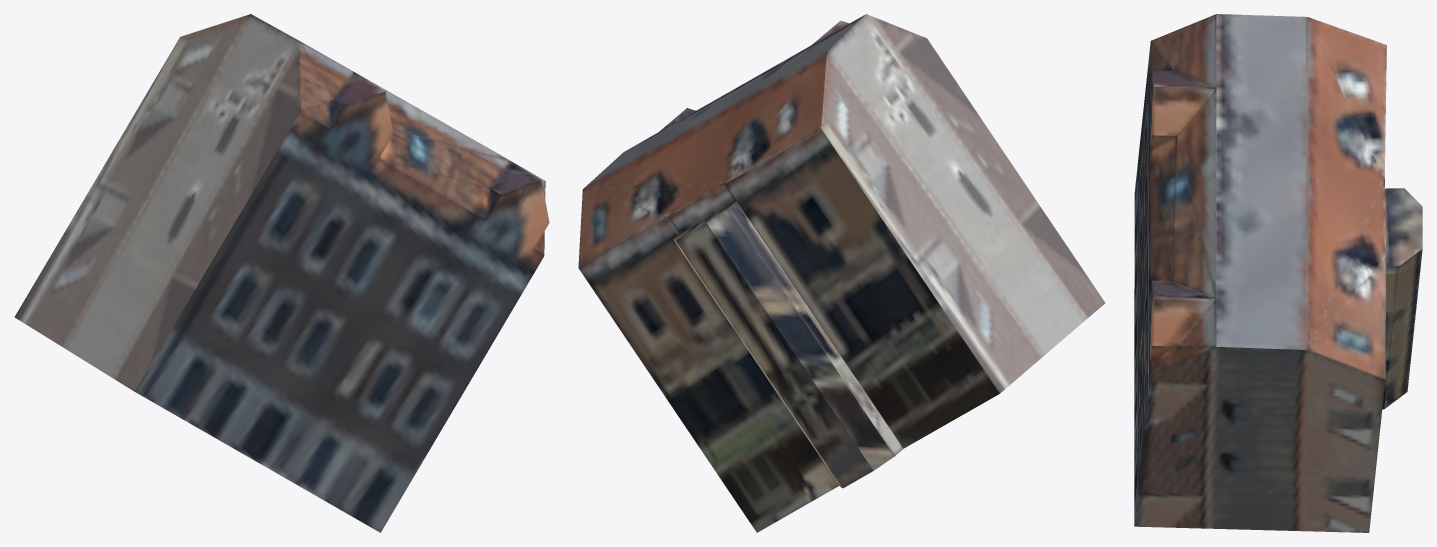
3 views of the same model, side by side, from view 1: azimuth 30°, elevation 25°; view 2: azimuth 150°, elevation 25°; view 3: azimuth 270°, elevation 25° (orthographic). The views are drawn at different scales.
Visible parts, largest first — view 1: BAG_0599100000688740 (×5); view 2: BAG_0599100000688740 (×5); view 3: BAG_0599100000688740 (×5).
Part boxes in pixels (bbox=[...]): BAG_0599100000688740 (×5): bbox=[14, 14, 549, 532]; BAG_0599100000688740 (×5): bbox=[578, 14, 1104, 532]; BAG_0599100000688740 (×5): bbox=[1134, 14, 1422, 532].
Bounding box in the file's own units: 17.4 × 17.56 × 9.18.
1 material, 1 textured.
